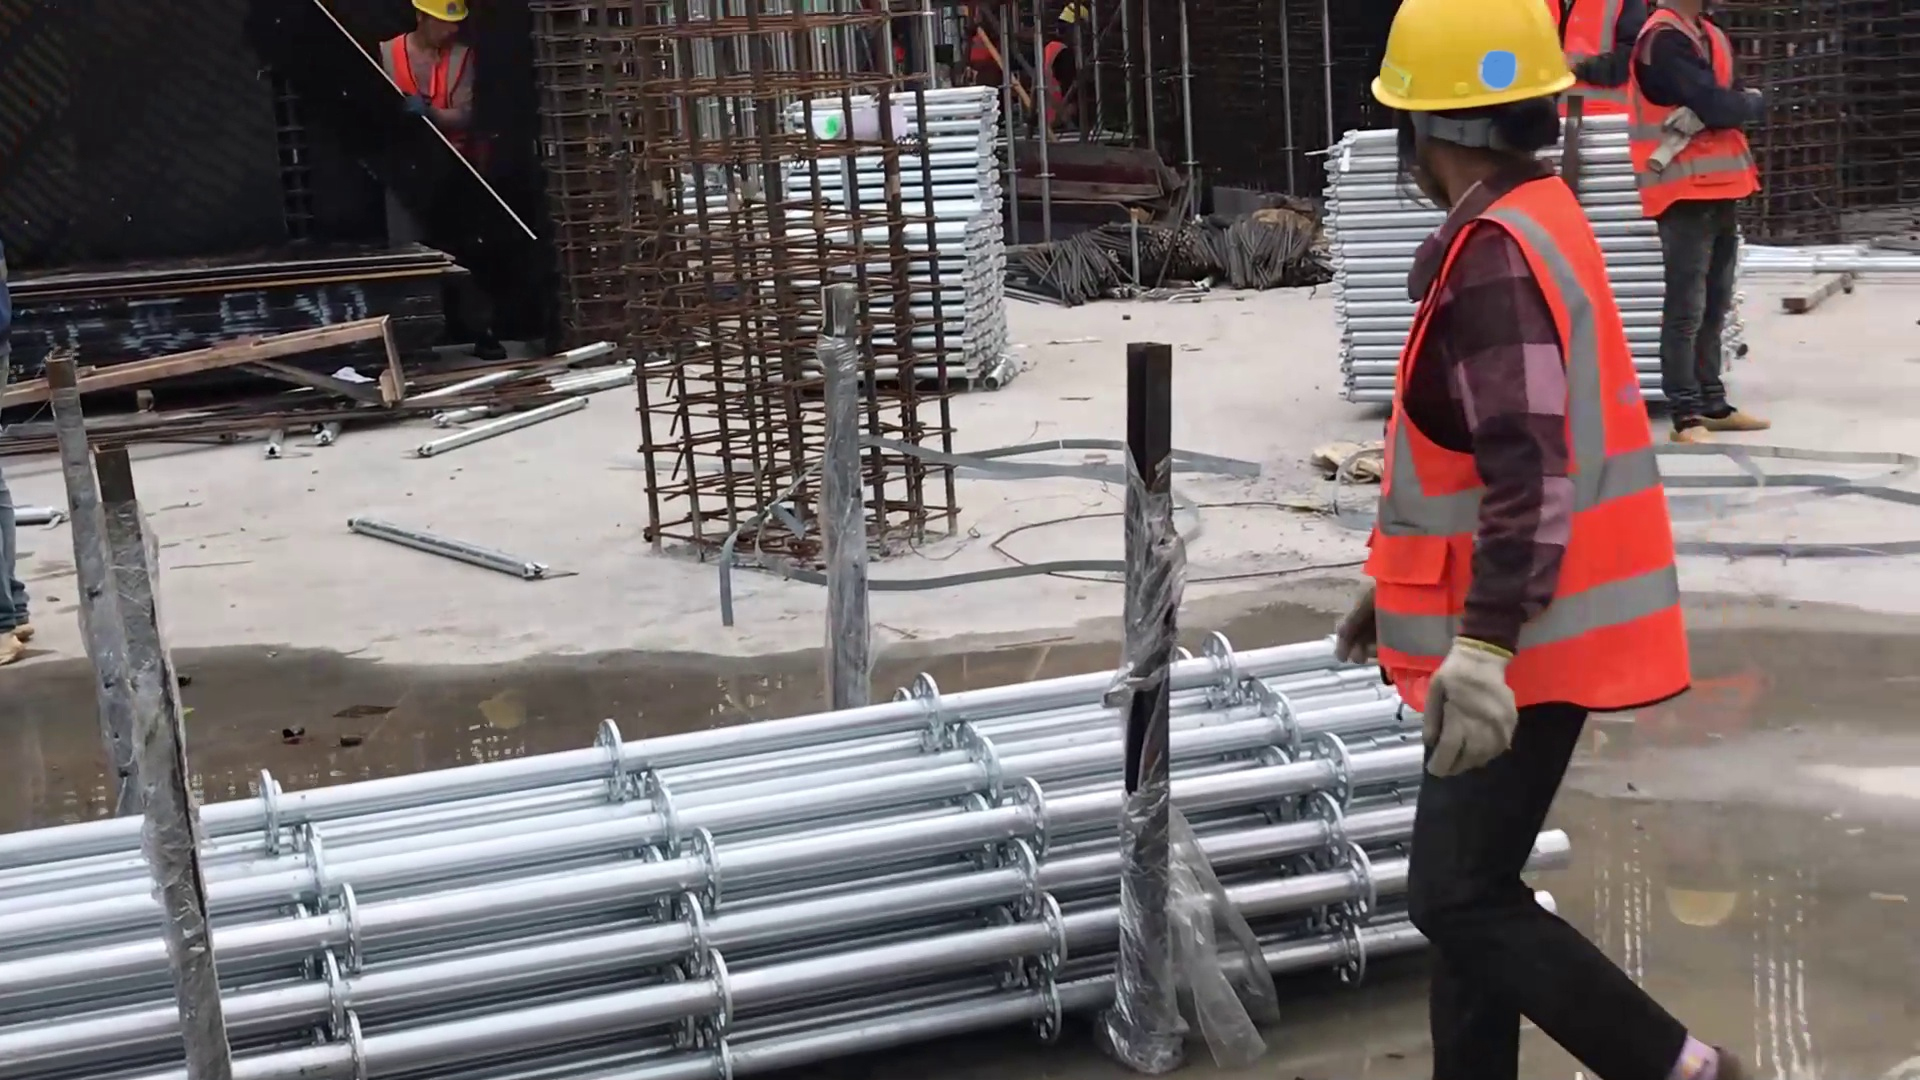helmet: (1360, 1, 1592, 134), (407, 1, 473, 29)
person: (1329, 1, 1767, 1080), (1606, 1, 1781, 455), (367, 1, 487, 260)
scaffold: (1, 614, 1426, 1079), (1300, 107, 1472, 419), (898, 76, 1015, 395)
vest: (1360, 174, 1710, 717), (1624, 10, 1774, 222), (376, 27, 467, 124)
